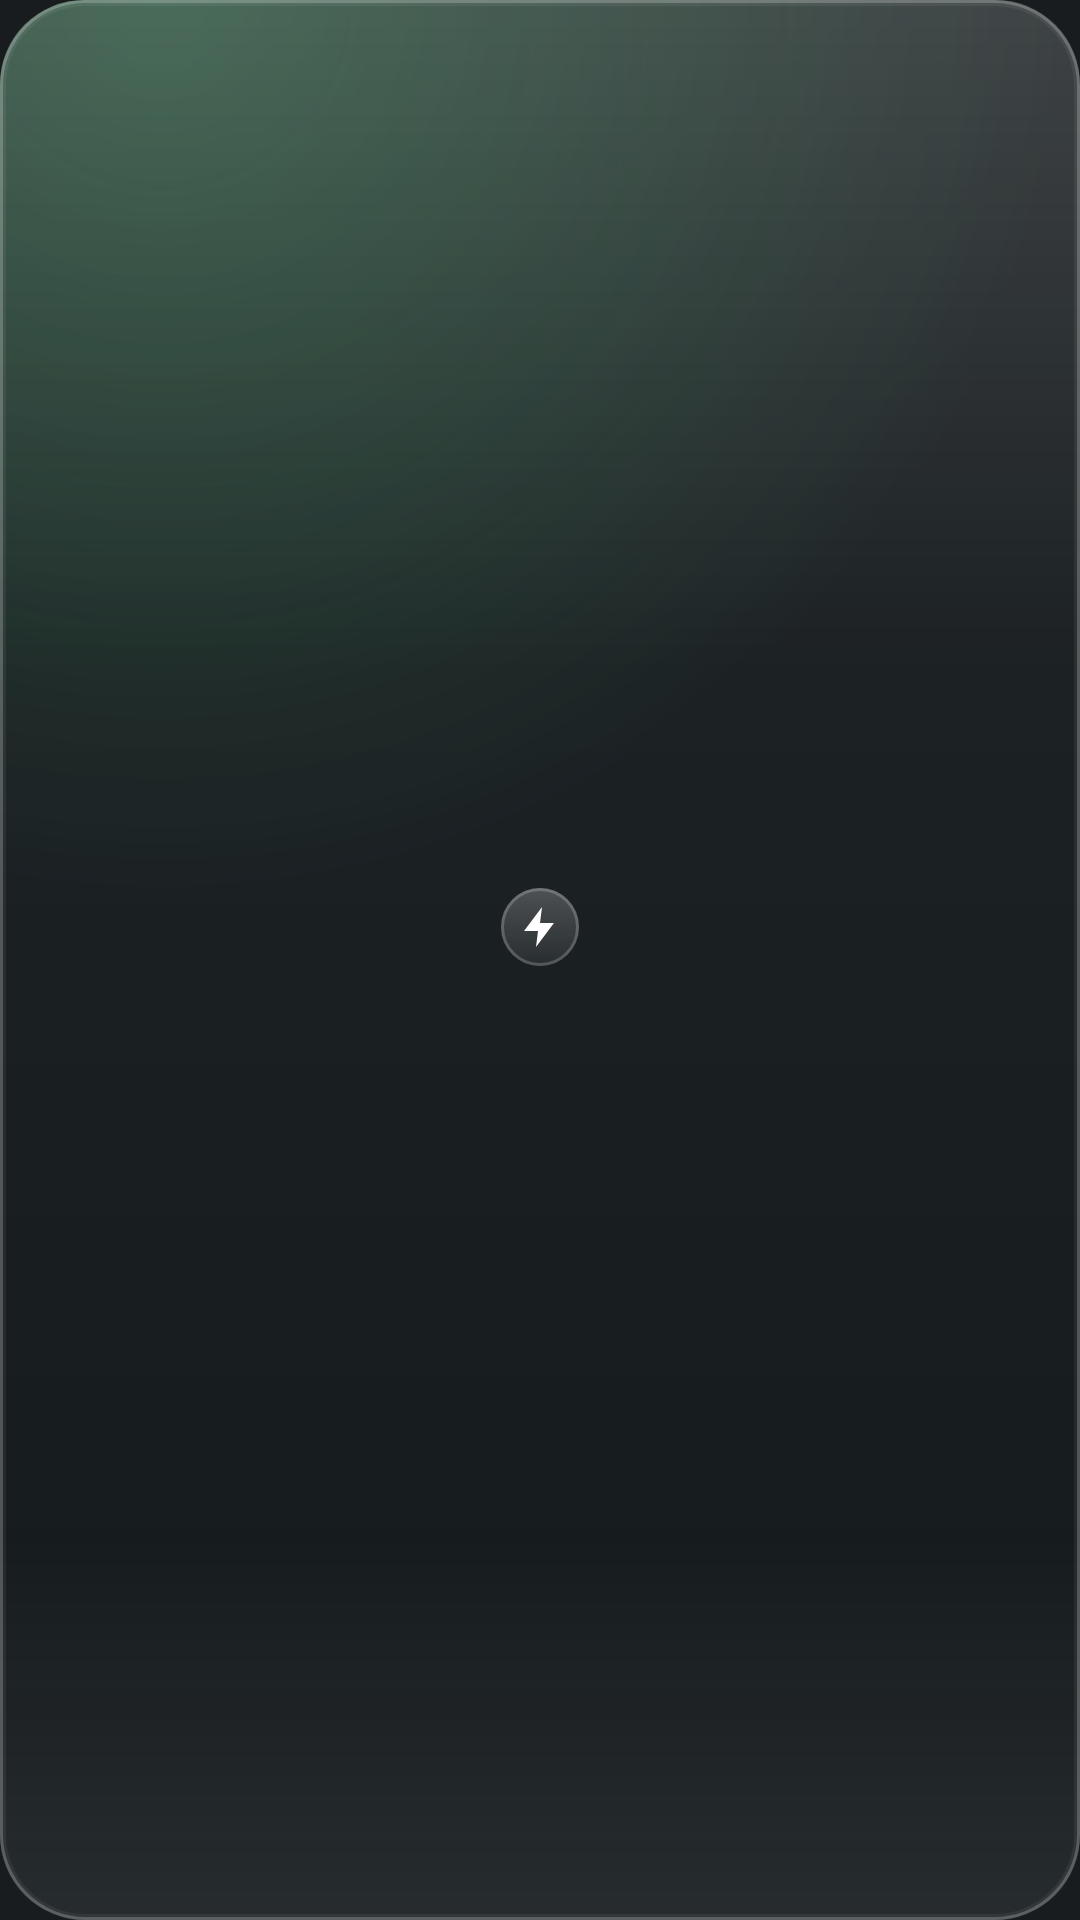

Where icons sit on this 1080*1920 app screen, as (x1, y1, x2, y2):
widget bolt: (501, 888, 579, 966)
